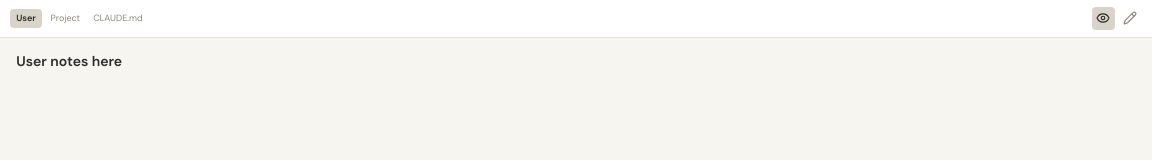
MemoryEditor › switches tier when tab is clicked
Expected: the heading "User notes here" is shown, [16,52,122,70]
Switch to project tier via aria-label
Click the button with aria-label "Project tier" at x=65, y=18, box [44,9,87,28]
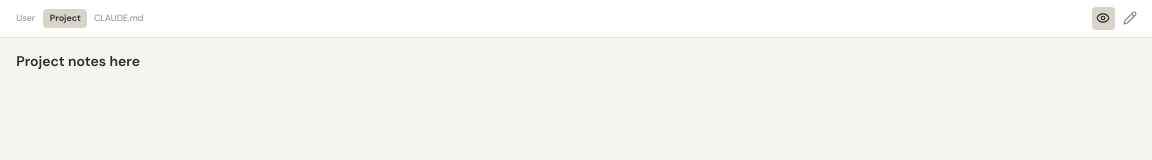
Now the heading "Project notes here" is shown, box [16,52,140,70]
